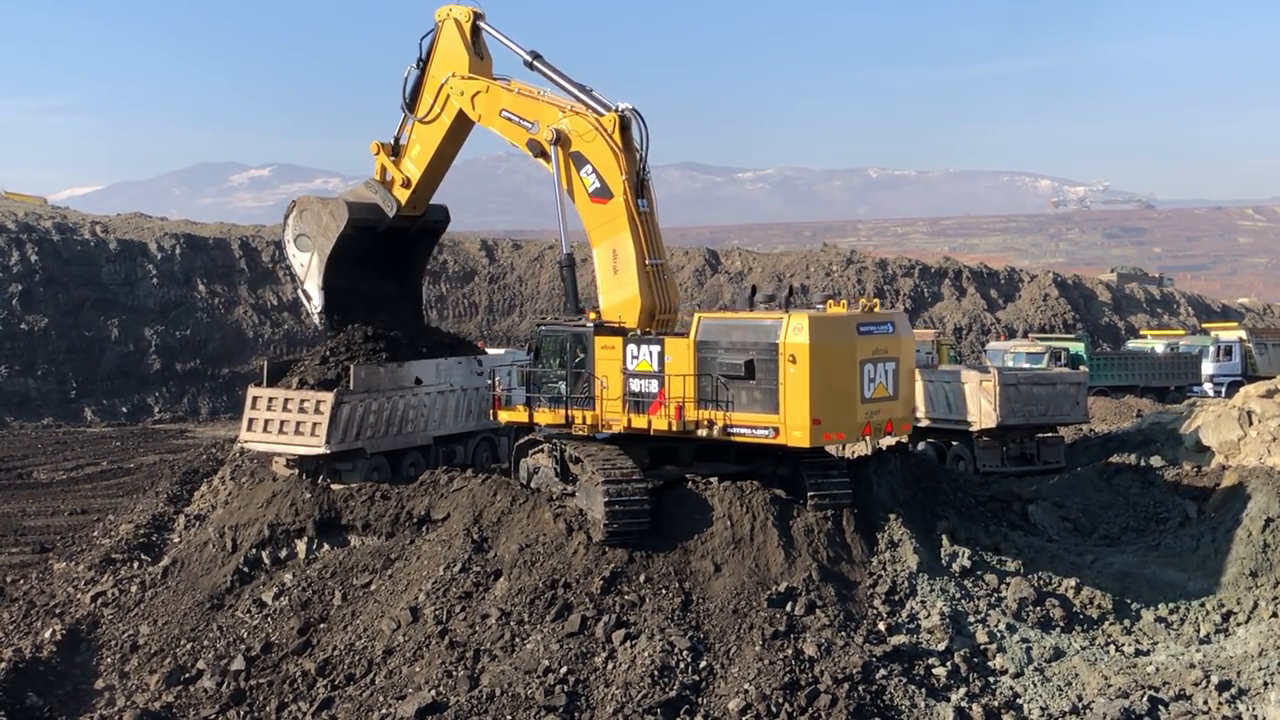empty: (280, 185, 456, 341)
